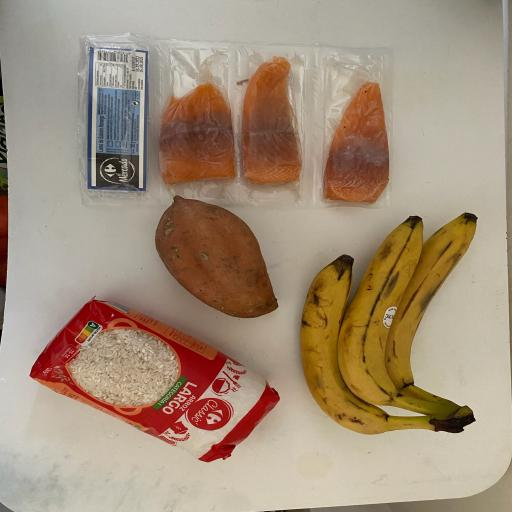banana: (280, 241, 476, 456), (336, 196, 492, 449), (373, 196, 498, 448)
rice: (10, 291, 309, 493)
salmon: (133, 35, 261, 205), (233, 28, 345, 214), (311, 44, 415, 225)
sweet_potato: (122, 181, 294, 328)
